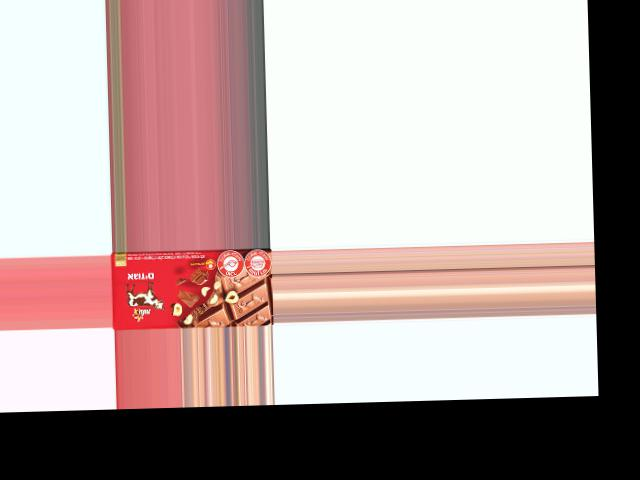chocolate: (110, 250, 272, 329)
